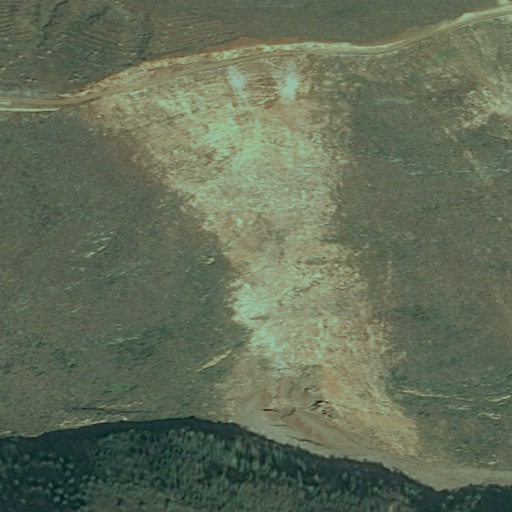landslide: (120, 44, 422, 439)
